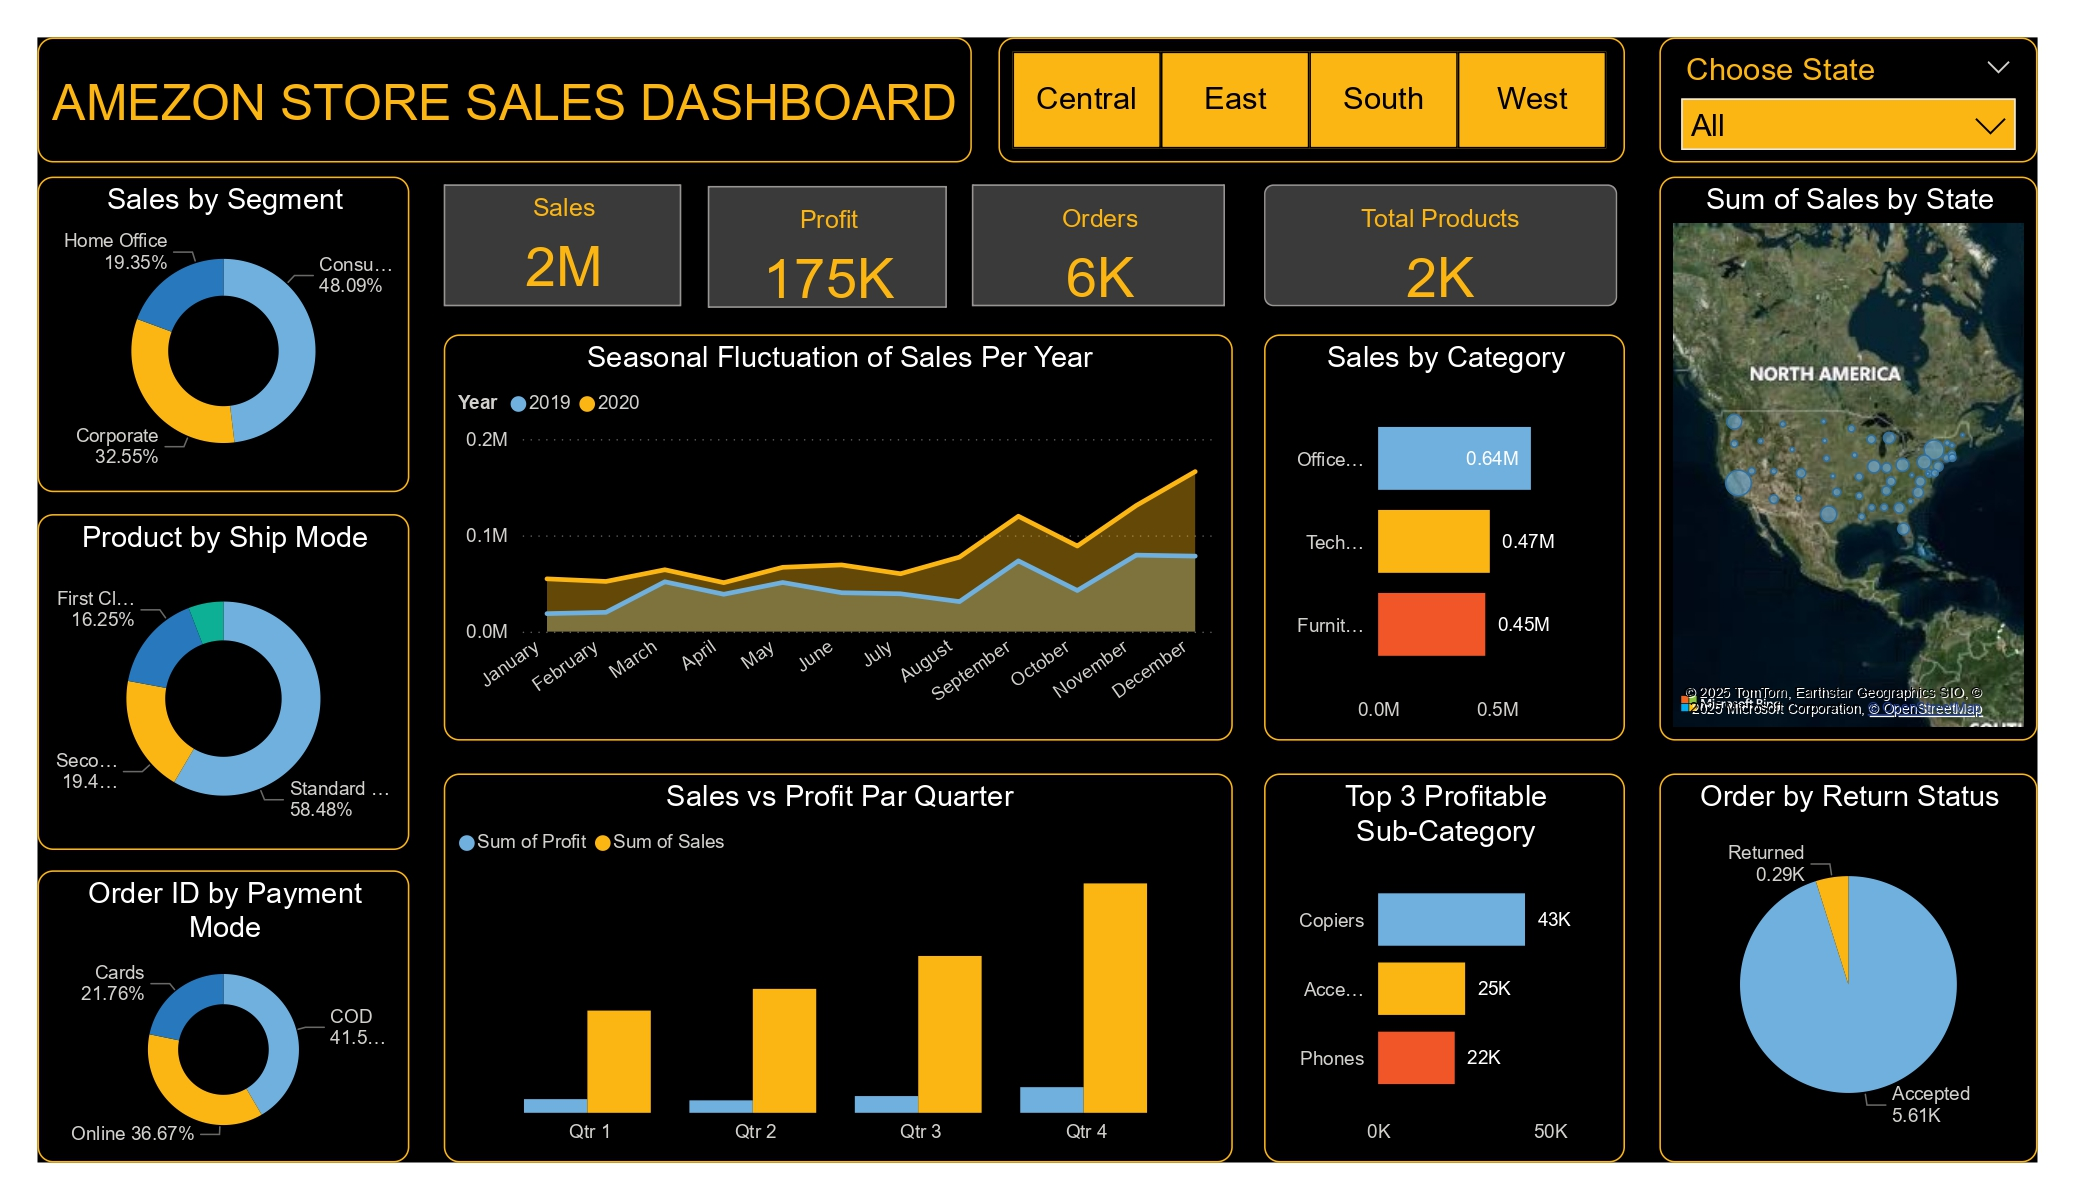

This screenshot's page, from the dashboard's own definition file:
{"tool":"powerbi","page":{"name":"Page 1","canvas":[1280,720],"ordinal":0},"visuals":[{"type":"clusteredBarChart","title":"Sales by Category","fields":{"Category":["Amazon Store Sales Data xlsx - Sheet1 (1).Category"],"Y":["Sum(Sheet1.Sales)"]},"box":[785,190,231.2,260],"z":0},{"type":"clusteredBarChart","title":"Top 3 Profitable Sub-Category","fields":{"Category":["Amazon Store Sales Data xlsx - Sheet1 (1).Sub-Category"],"Y":["Sum(Amazon Store Sales Data xlsx - Sheet1 (1).Profit)"]},"box":[785,471.2,231.2,248.8],"z":1000},{"type":"donutChart","title":"Sales by Segment","fields":{"Category":["Amazon Store Sales Data xlsx - Sheet1 (1).Segment"],"Y":["Sum(Amazon Store Sales Data xlsx - Sheet1 (1).Sales)"]},"box":[0,88.8,237.5,202.5],"z":2000},{"type":"donutChart","title":"Product by Ship Mode","fields":{"Y":["CountNonNull(Amazon Store Sales Data xlsx - Sheet1 (1).Product ID)"],"Category":["Amazon Store Sales Data xlsx - Sheet1 (1).Ship Mode"]},"box":[0,305,237.5,215],"z":3000},{"type":"donutChart","title":"Order ID by Payment Mode","fields":{"Y":["CountNonNull(Sheet1.Order ID)"],"Category":["Sheet1.Payment Mode"]},"box":[0,532.5,237.5,187.5],"z":4000},{"type":"areaChart","title":"Seasonal Fluctuation of Sales Per Year","fields":{"Y":["Sum(Sheet1.Sales)"],"Series":["Sheet1.Order Date.Variation.Date Hierarchy.Year"],"Category":["Sheet1.Order Date.Variation.Date Hierarchy.Month"]},"box":[260,190,505,260],"z":5000},{"type":"map","title":"Sum of Sales by State","fields":{"Category":["Sheet1.State"],"Size":["Sum(Sheet1.Sales)"]},"box":[1037.5,88.8,242.5,361.2],"z":6000},{"type":"clusteredColumnChart","title":"Sales vs Profit Par Quarter","fields":{"Category":["Sheet1.Order Date.Variation.Date Hierarchy.Quarter"],"Y":["Sum(Sheet1.Profit)","Sum(Sheet1.Sales)"]},"box":[260,471.2,505,248.8],"z":7000},{"type":"pieChart","title":" Order by Return Status","fields":{"Category":["Sheet1.Return Status"],"Y":["CountNonNull(Sheet1.Order Date)"]},"box":[1037.5,471.2,242.5,248.8],"z":8000},{"type":"advancedSlicerVisual","fields":{"Values":["Sheet1.Region"]},"box":[615,0,401.2,80],"z":9000},{"type":"cardVisual","fields":{"Data":["Sum(Sheet1.Profit)"]},"box":[428.8,90,158.8,88.8],"z":10000},{"type":"cardVisual","title":"Sales","fields":{"Data":["Sum(Sheet1.Sales)"]},"box":[260,88.8,157.5,88.8],"z":11000},{"type":"cardVisual","fields":{"Data":["CountNonNull(Sheet1.Order ID)"]},"box":[597.5,88.8,167.5,88.8],"z":12000},{"type":"cardVisual","title":"Total Products","fields":{"Data":["Count(Sheet1.Product ID)"]},"box":[785,88.8,231.2,88.8],"z":13000},{"type":"slicer","fields":{"Values":["Sheet1.State"]},"box":[1037.5,0,242.5,80],"z":14000},{"type":"textbox","box":[0,0,597.5,80],"z":15000}]}

Visuals, with their boxes in screenshot pixels (x1, y1, x2, y2):
"Sales by Category" clusteredBarChart: [1264, 334, 1625, 741]
"Top 3 Profitable Sub-Category" clusteredBarChart: [1264, 774, 1625, 1162]
"Sales by Segment" donutChart: [38, 176, 409, 493]
"Product by Ship Mode" donutChart: [38, 514, 409, 850]
"Order ID by Payment Mode" donutChart: [38, 870, 409, 1162]
"Seasonal Fluctuation of Sales Per Year" areaChart: [444, 334, 1233, 741]
"Sum of Sales by State" map: [1659, 176, 2038, 741]
"Sales vs Profit Par Quarter" clusteredColumnChart: [444, 774, 1233, 1162]
" Order by Return Status" pieChart: [1659, 774, 2038, 1162]
advancedSlicerVisual - Sheet1.Region: [998, 38, 1625, 162]
cardVisual - Sum(Sheet1.Profit): [708, 178, 956, 317]
"Sales" cardVisual: [444, 176, 690, 315]
cardVisual - CountNonNull(Sheet1.Order ID): [971, 176, 1233, 315]
"Total Products" cardVisual: [1264, 176, 1625, 315]
slicer - Sheet1.State: [1659, 38, 2038, 162]
textbox: [38, 38, 971, 162]
